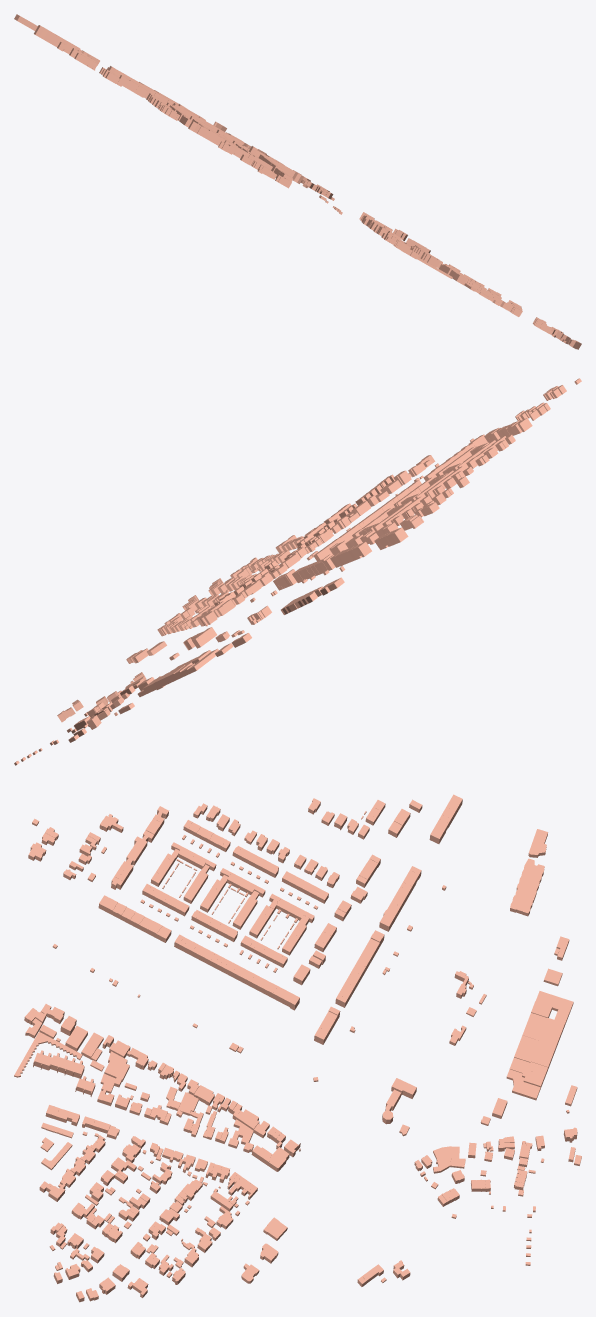
3 views of the same model, one above another, from view 1: azimuth 30°, elevation 25°; view 2: azimuth 150°, elevation 25°; view 3: azimuth 270°, elevation 25° (orthographic). The views are drawn at different scales.
Size of the model in its own units: 526 by 385 by 632.
